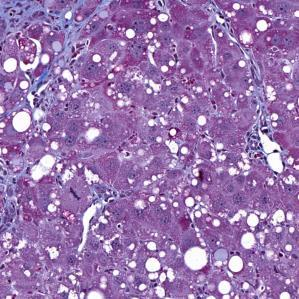fibrosis: (3, 1, 79, 48)
